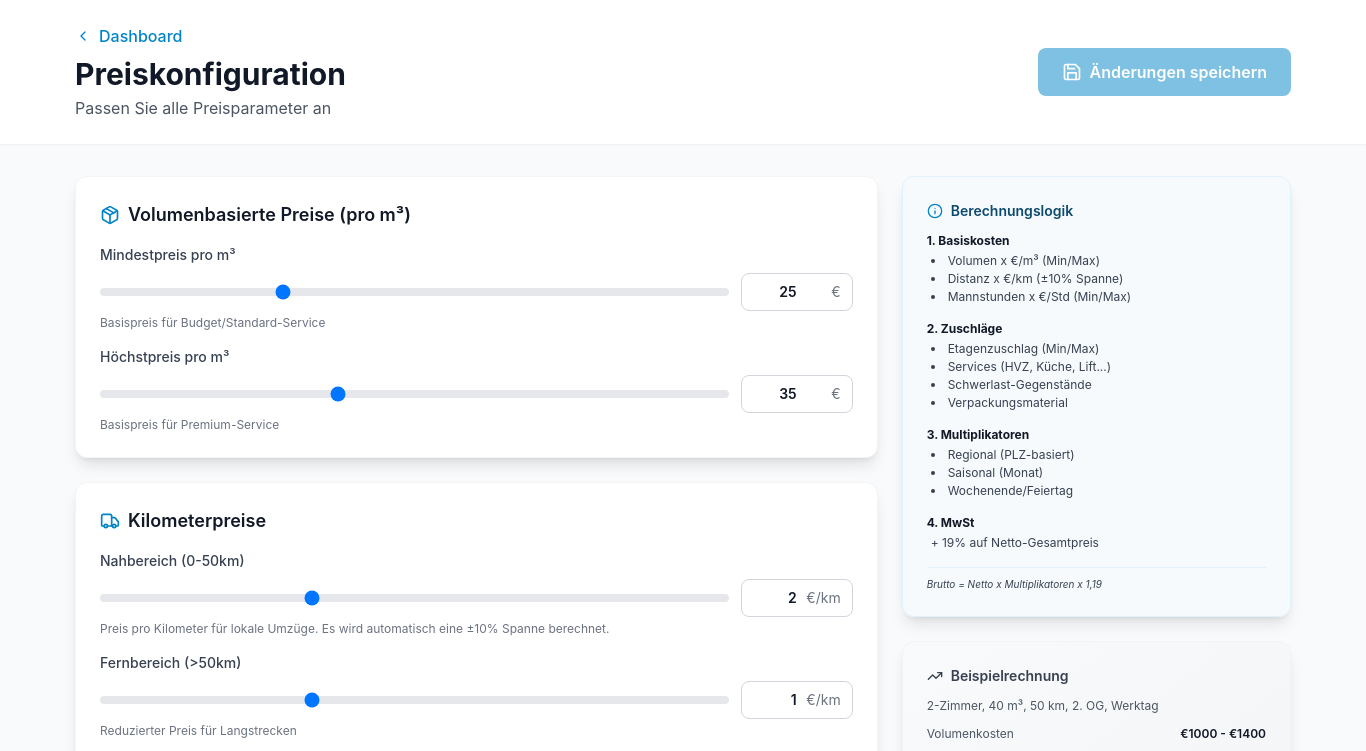
Test case: Calculation updates on config change › example total updates when base_rate_m3_min changes
The image size is (1366, 751).
Replace the text in the 1st number field with "30": (797, 292) 741,273 -> 853,311
(page scrolled)
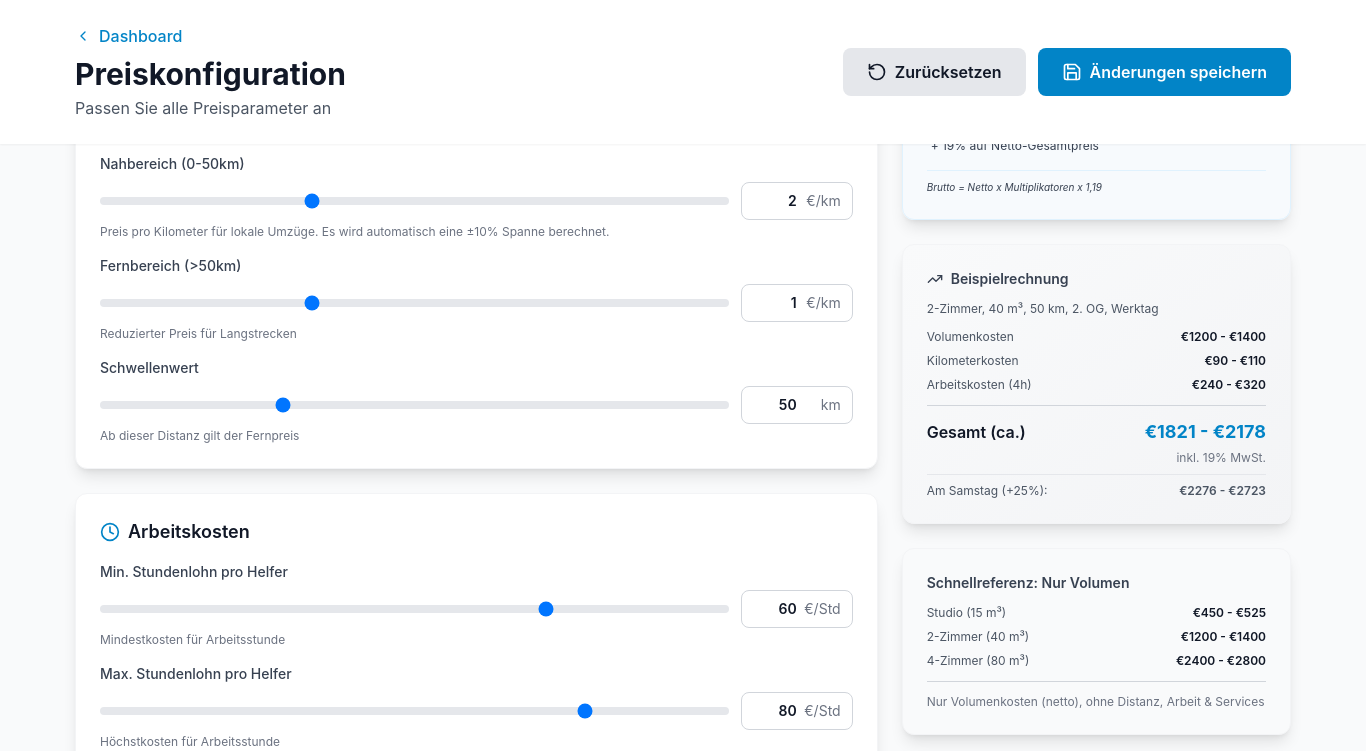
Result: the text "Beispielrechnung" shows "€1821" at 902,244 -> 1291,524
